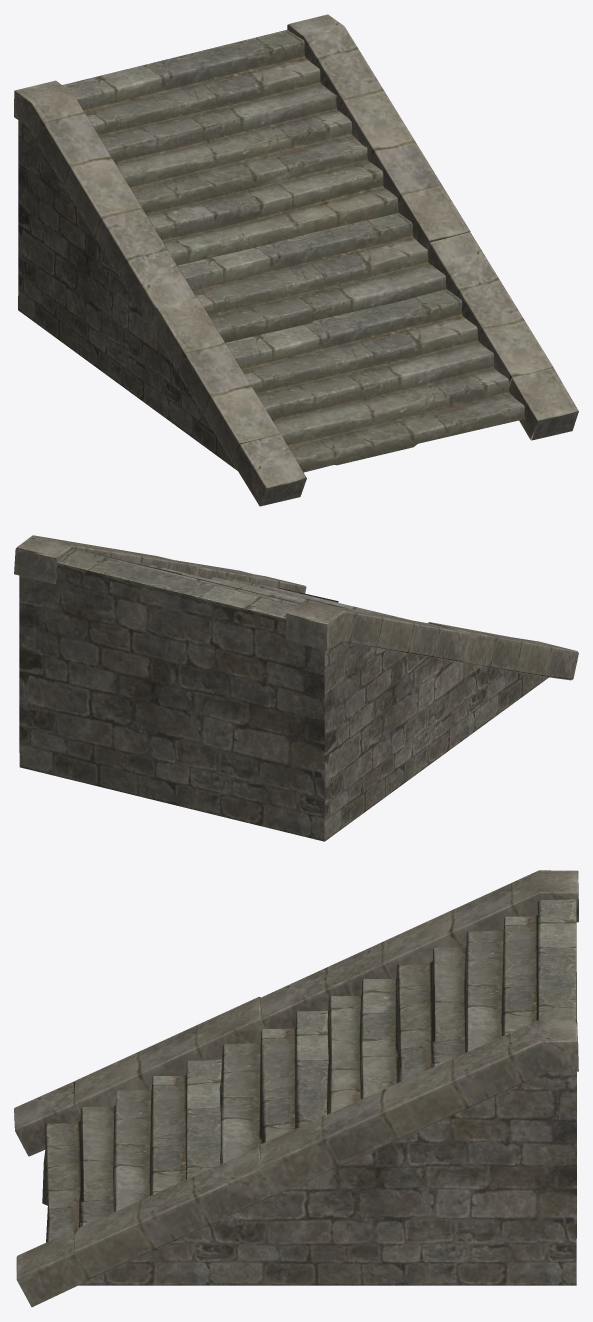
Rendered from SM_pal_b00grass_Lodenfel_Stair_01_67644b.glb.
3 views of the same model, one above another, from view 1: azimuth 30°, elevation 25°; view 2: azimuth 150°, elevation 25°; view 3: azimuth 270°, elevation 25° (orthographic). The views are drawn at different scales.
Bounding box in the file's own units: 4.63 × 3.35 × 6.42.
4 materials, 4 textured.
